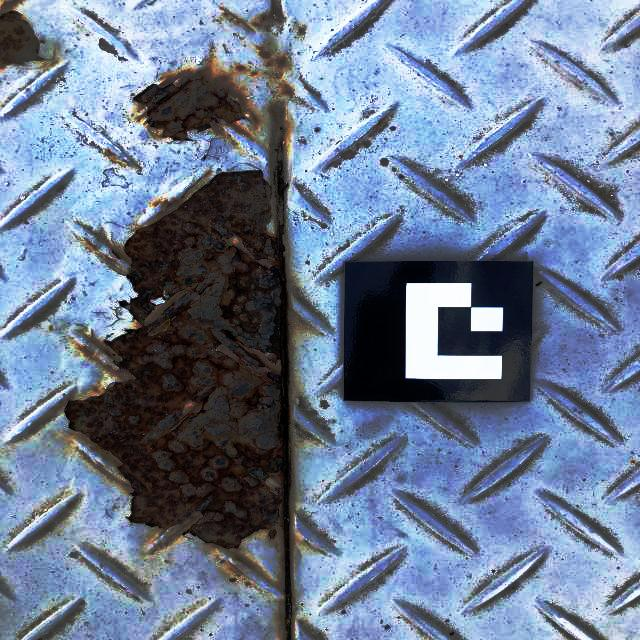Corrosion: (65, 170, 285, 550), (134, 70, 253, 141), (0, 11, 45, 65), (256, 42, 294, 98), (233, 63, 257, 74)
